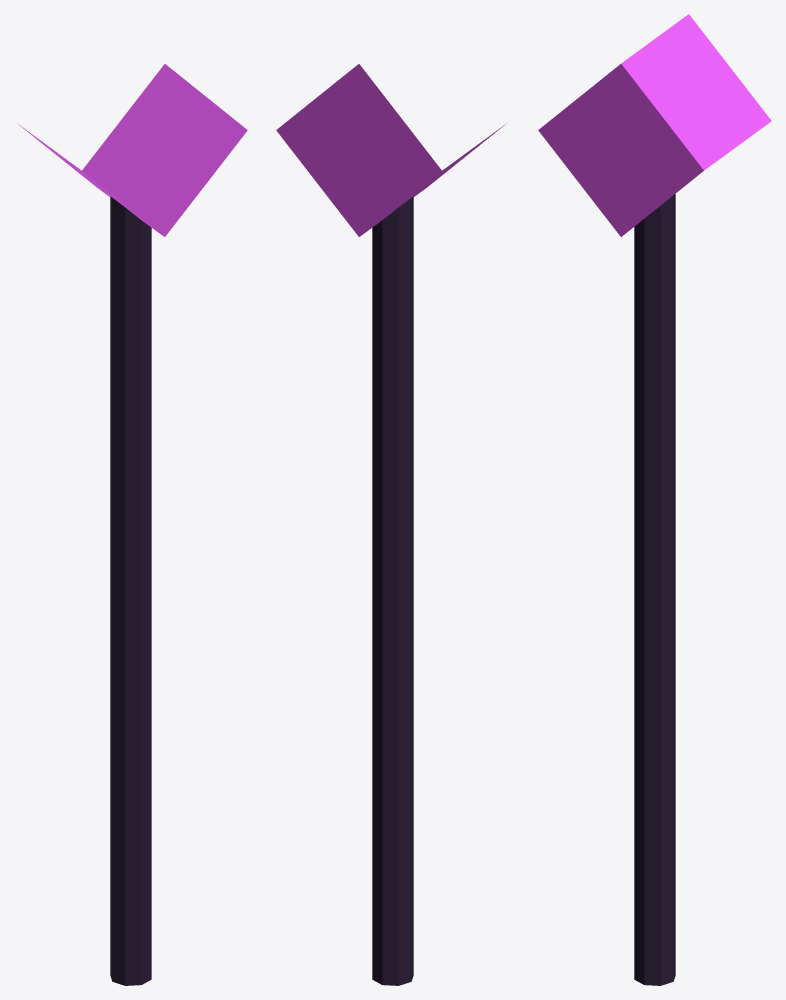
The model's file is dazzle.glb.
3 views of the same model, side by side, from view 1: azimuth 30°, elevation 25°; view 2: azimuth 150°, elevation 25°; view 3: azimuth 330°, elevation 25° (orthographic).
Visible parts, largest first — view 1: dazzle-shaft, dazzle-head-gem; view 2: dazzle-shaft, dazzle-head-gem; view 3: dazzle-shaft, dazzle-head-gem.
Part boxes in pixels (bbox=[...]): dazzle-shaft: bbox=[110, 196, 151, 985]; dazzle-head-gem: bbox=[17, 64, 247, 236]; dazzle-shaft: bbox=[372, 196, 413, 985]; dazzle-head-gem: bbox=[276, 64, 506, 236]; dazzle-shaft: bbox=[634, 194, 675, 985]; dazzle-head-gem: bbox=[538, 14, 771, 236].
Bounding box in the file's own units: 0.3111 × 1.68 × 0.22.
